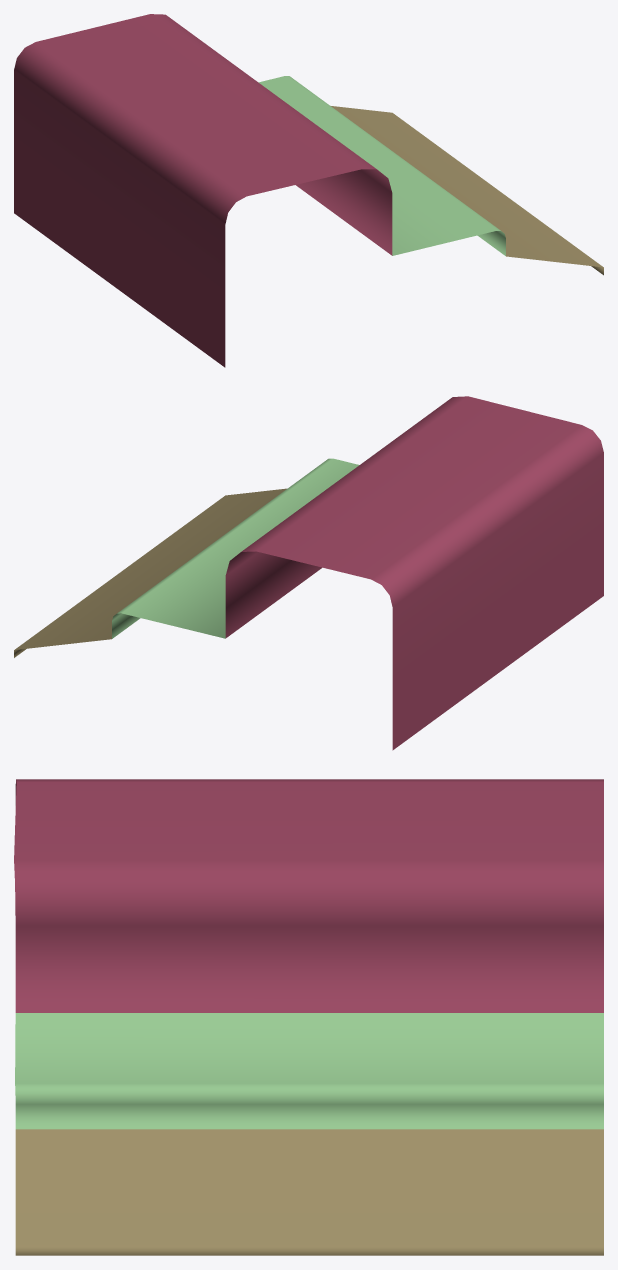
Rendered from Stadium_EndShort.fbx.
3 renders of one model, top to bottom at view 1: azimuth 30°, elevation 25°; view 2: azimuth 150°, elevation 25°; view 3: azimuth 270°, elevation 25°, orthographic. The views are drawn at different scales.
Parts seen in each view (by area): view 1: Stadium_EndShort; view 2: Stadium_EndShort; view 3: Stadium_EndShort.
Part boxes in pixels (left/top/right/bottom): Stadium_EndShort: left=14, top=14, right=603, bottom=367; Stadium_EndShort: left=14, top=396, right=603, bottom=750; Stadium_EndShort: left=14, top=779, right=603, bottom=1255.
Bounding box in the file's own units: 764 × 320 × 741.
